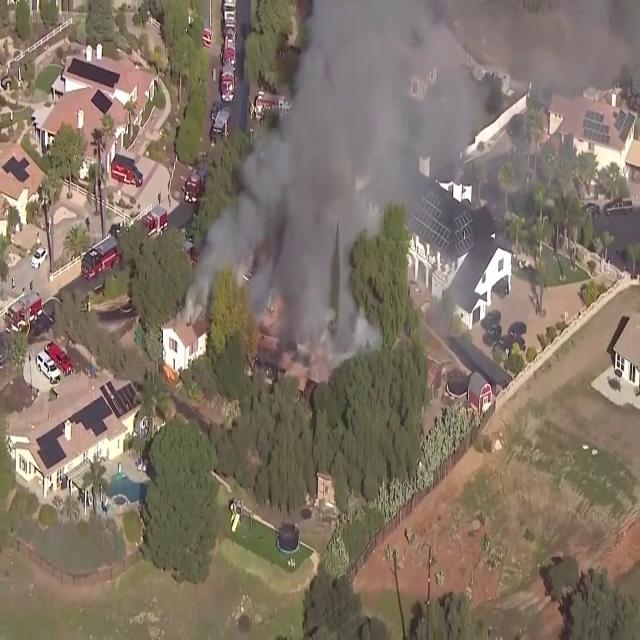Smoke: (190, 1, 486, 322)
